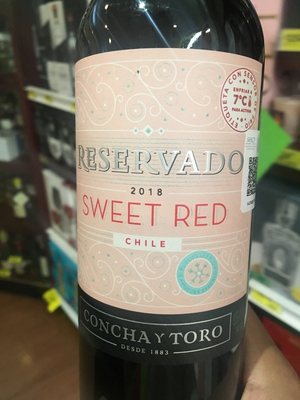reservado sweet red: (59, 13, 259, 373)
